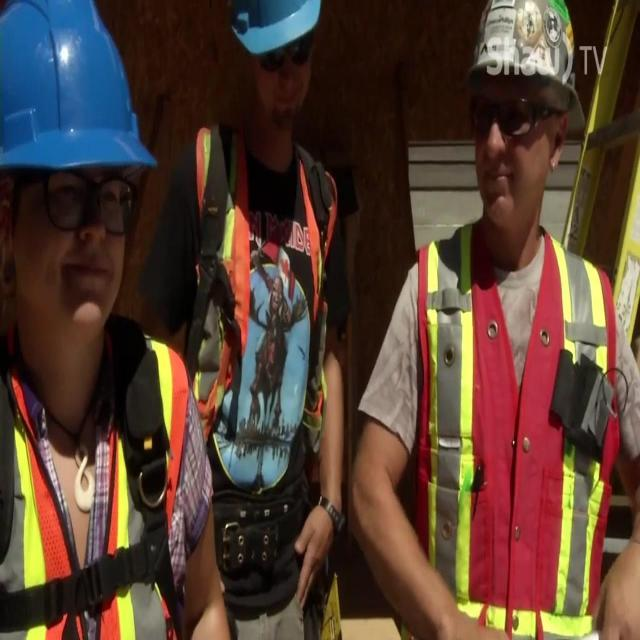vest: (416, 222, 620, 638), (0, 332, 186, 639), (186, 112, 338, 452)
